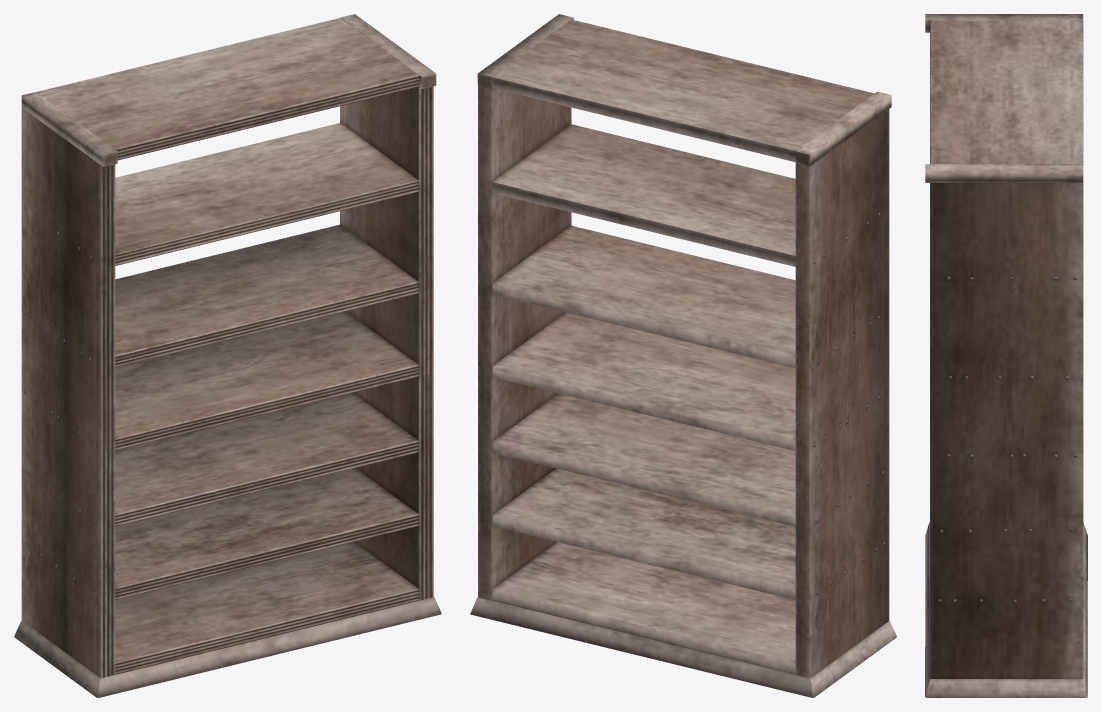
The model's file is ph_wooden_bookshelf_worn.glb.
3 renders of one model, left to right at view 1: azimuth 30°, elevation 25°; view 2: azimuth 150°, elevation 25°; view 3: azimuth 270°, elevation 25°, orthographic. The views are drawn at different scales.
Parts seen in each view (by area): view 1: wooden_bookshelf_worn; view 2: wooden_bookshelf_worn; view 3: wooden_bookshelf_worn.
Part boxes in pixels (<box>): wooden_bookshelf_worn: <box>14,14,441,697</box>; wooden_bookshelf_worn: <box>470,14,896,697</box>; wooden_bookshelf_worn: <box>925,14,1087,697</box>.
Size of the model in its own units: 1.37 by 2.06 by 0.5812.
Materials: 1 (1 with a texture image).
